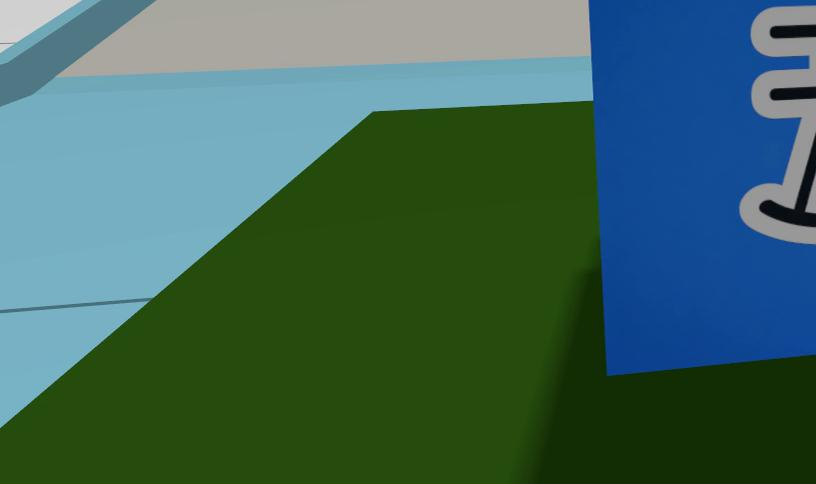KFS_REAL: (589, 0, 816, 374), (740, 6, 816, 242)
